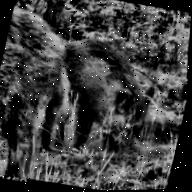boar: (58, 34, 171, 164)
